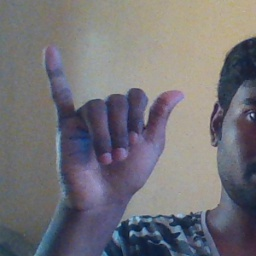J: (39, 44, 187, 200)
